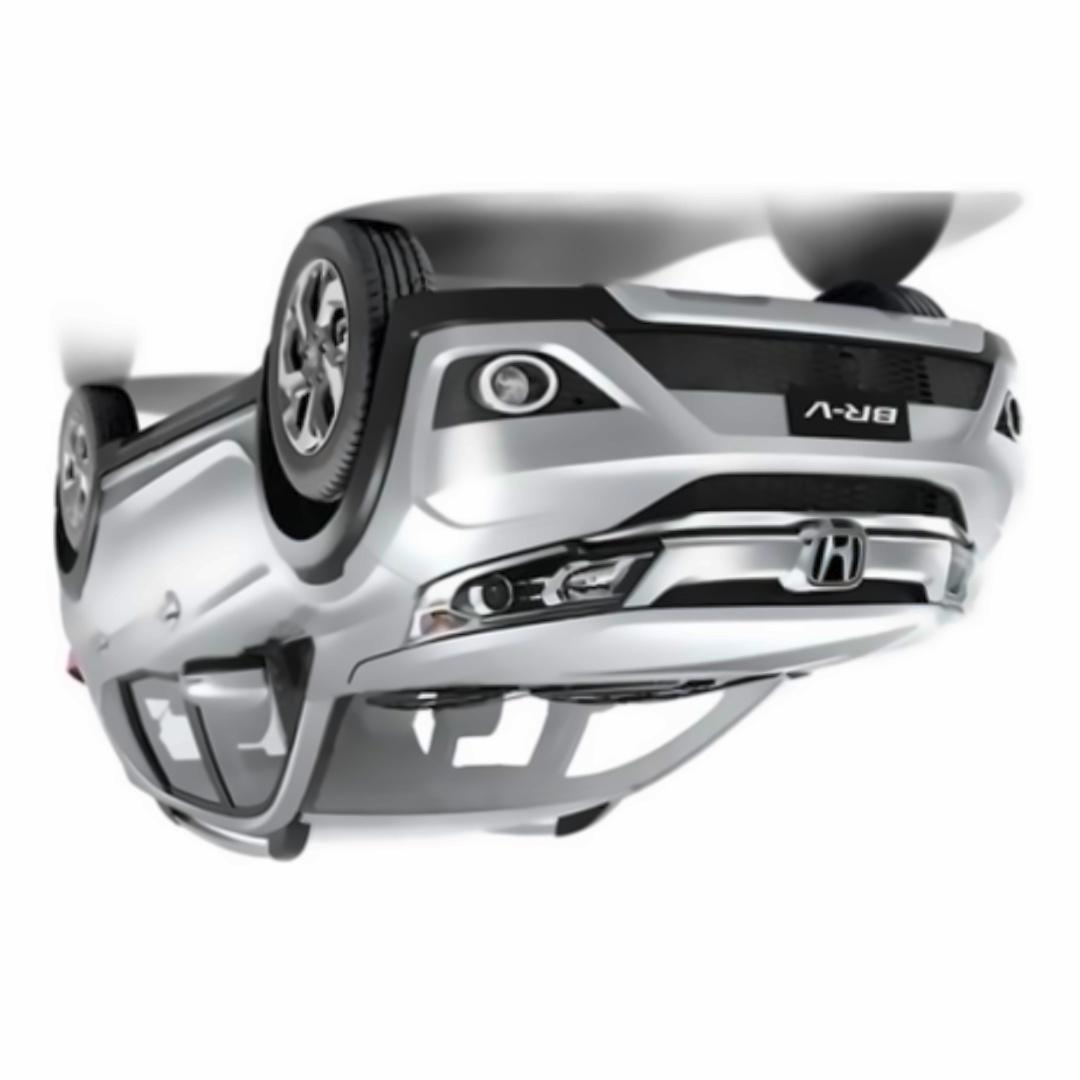Car hood: (344, 605, 953, 691)
Fender - -F-L-: (224, 409, 426, 744)
Front bumper: (387, 287, 1026, 599)
Headlight - -L-: (392, 529, 675, 649)
Passenger-s door - -F-L-: (163, 337, 347, 864)
Passenger-s door - -R-L-: (64, 399, 249, 874)
Side bumper - -L-: (94, 349, 280, 562)
Side mirror - -L-: (171, 637, 329, 710)
